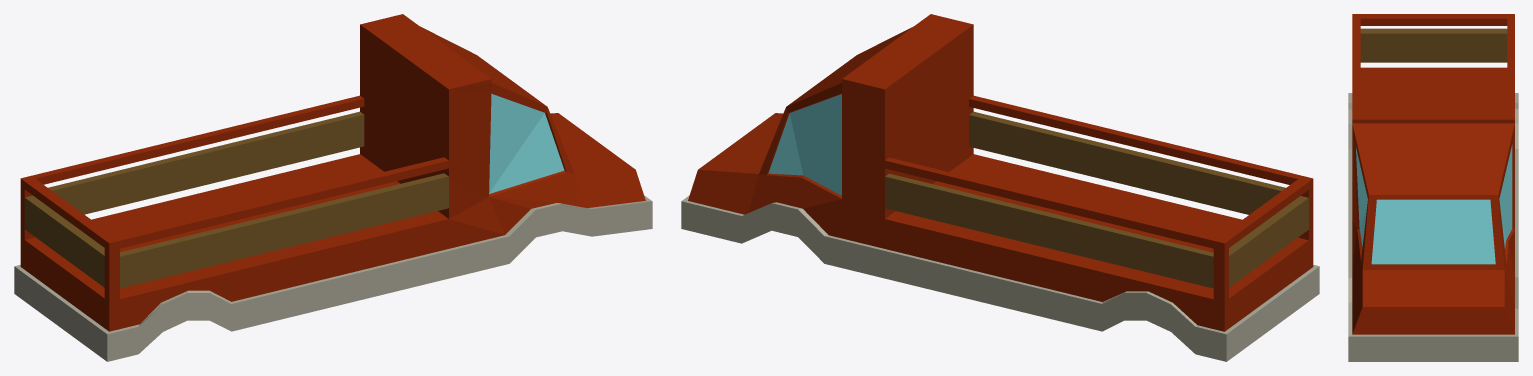
Rendered from co_Truck01.fbx.
3 views of the same model, side by side, from view 1: azimuth 30°, elevation 25°; view 2: azimuth 150°, elevation 25°; view 3: azimuth 270°, elevation 25° (orthographic). The views are drawn at different scales.
Parts seen in each view (by area): view 1: Truck01; view 2: Truck01; view 3: Truck01.
Boxes of the visible parts, box(x1,y1,x2,y2) form: Truck01: box(14, 14, 652, 361); Truck01: box(681, 14, 1319, 361); Truck01: box(1348, 14, 1518, 361).
Bounding box in the file's own units: 936 × 307 × 277.
